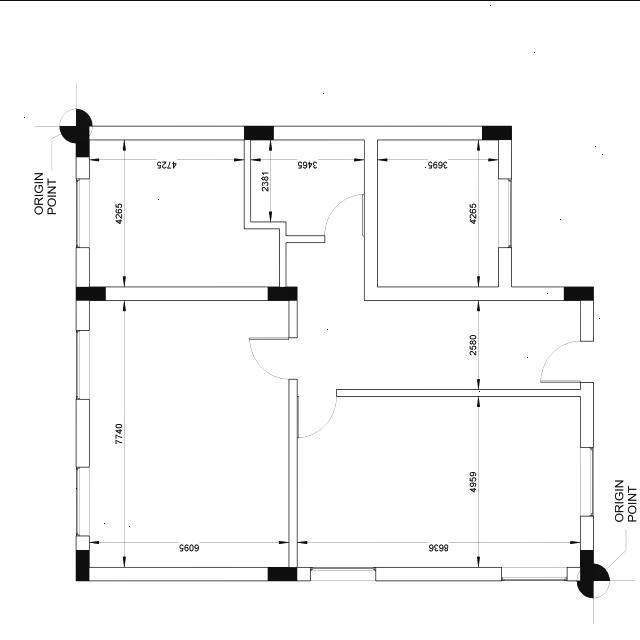Column: (580, 548, 594, 580), (76, 548, 90, 580), (76, 125, 90, 156), (244, 125, 274, 139), (482, 125, 512, 139), (564, 286, 594, 300), (268, 566, 298, 580), (76, 286, 106, 300), (268, 286, 298, 300)
Door: (540, 340, 594, 382), (249, 336, 297, 378), (324, 194, 364, 242), (298, 388, 336, 436)
Window: (76, 466, 90, 536), (76, 329, 90, 399), (76, 178, 90, 247), (498, 178, 512, 247), (580, 446, 594, 515), (502, 566, 568, 580), (310, 566, 376, 580)
